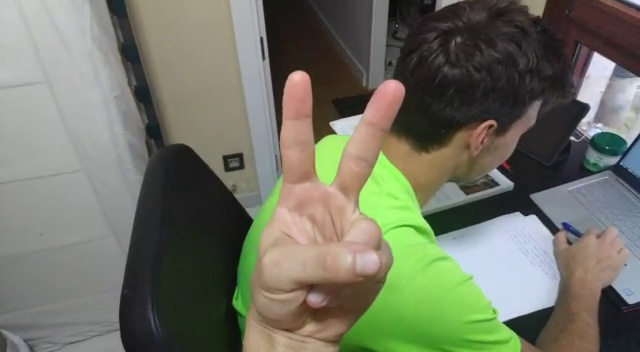Peace: (239, 69, 410, 331)
